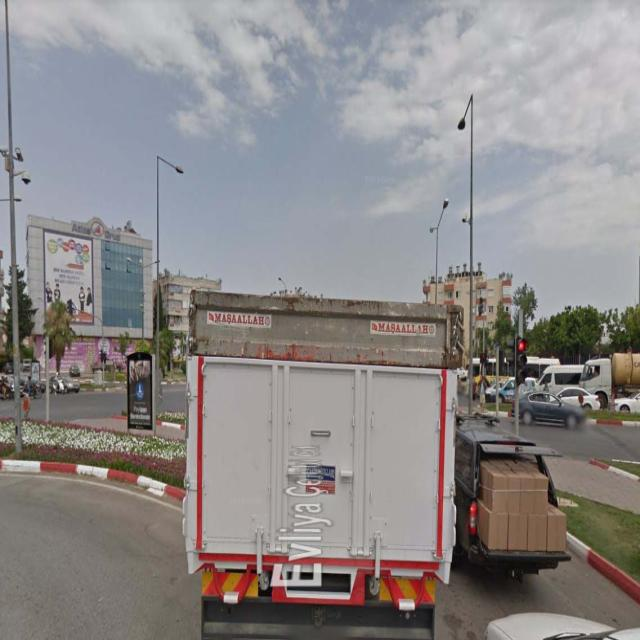kirmizi: (516, 339, 526, 384)
